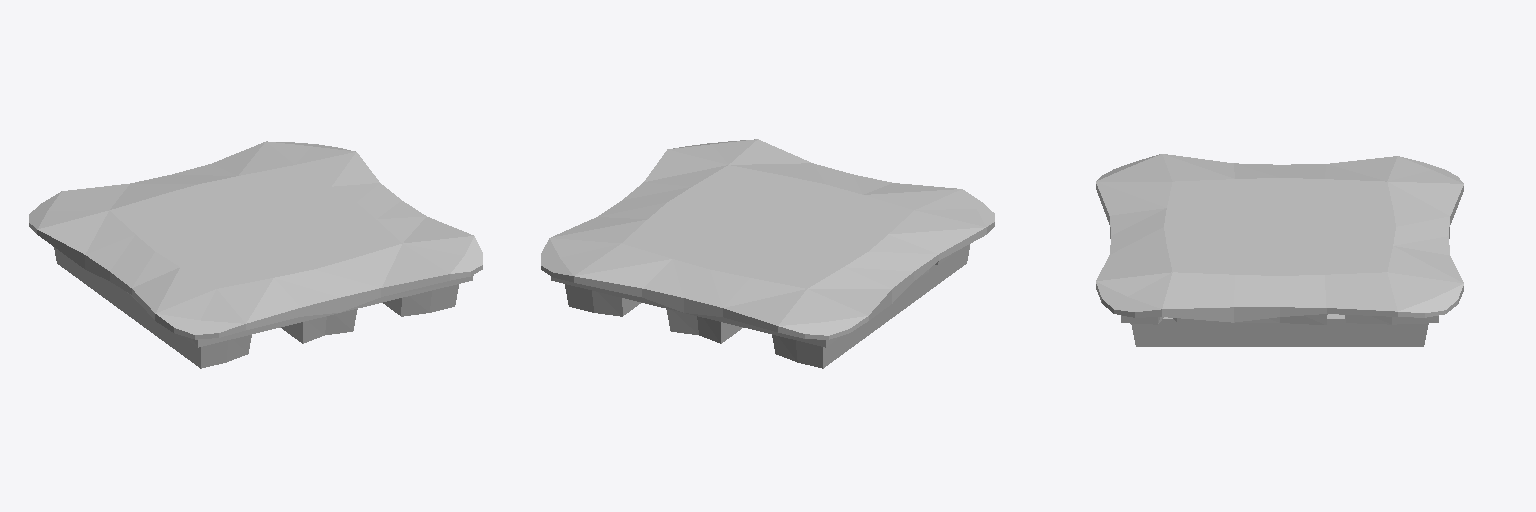
File: Pallet_Wood_Covered_A.obj
3 renders of one model, left to right at view 1: azimuth 30°, elevation 25°; view 2: azimuth 150°, elevation 25°; view 3: azimuth 270°, elevation 25°, orthographic.
Parts seen in each view (by area): view 1: Pallet_Wood_Covered_A; view 2: Pallet_Wood_Covered_A; view 3: Pallet_Wood_Covered_A.
Boxes of the visible parts, x1,y1,x2,y2 form: Pallet_Wood_Covered_A: [29, 141, 482, 368]; Pallet_Wood_Covered_A: [541, 139, 994, 368]; Pallet_Wood_Covered_A: [1096, 154, 1463, 346].
Bounding box in the file's own units: 1.72 × 0.3 × 1.72.